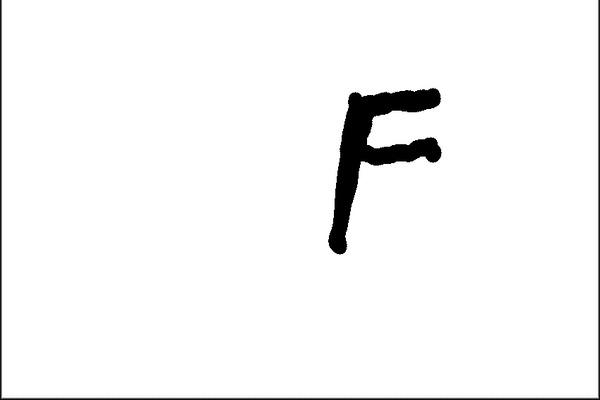F: (323, 81, 444, 258)
